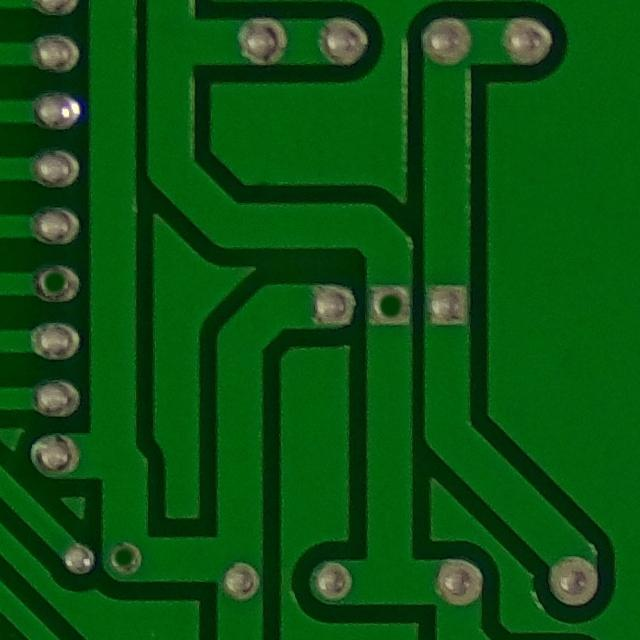missing_hole: (361, 273, 421, 333), (32, 258, 89, 309), (102, 534, 157, 583)
